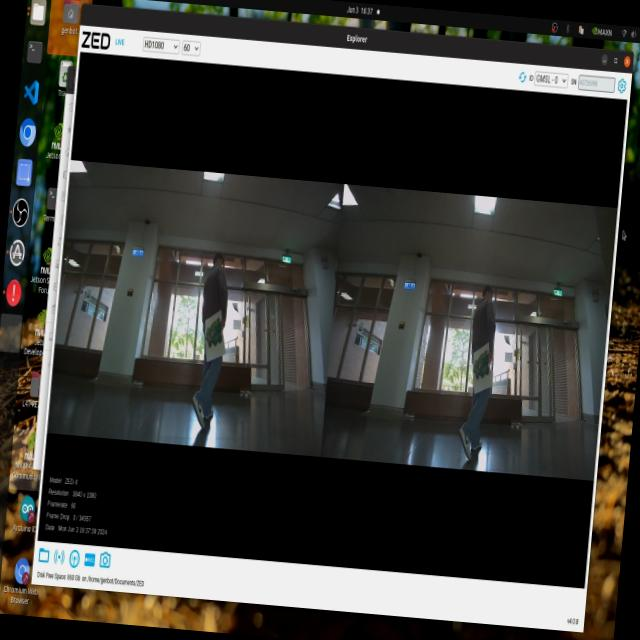green: (202, 308, 230, 354), (470, 344, 495, 381)
